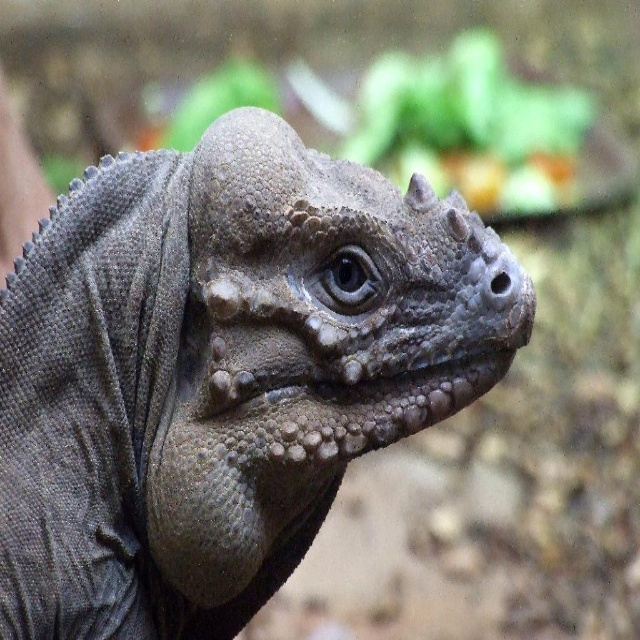Lizard: (32, 80, 548, 640)
